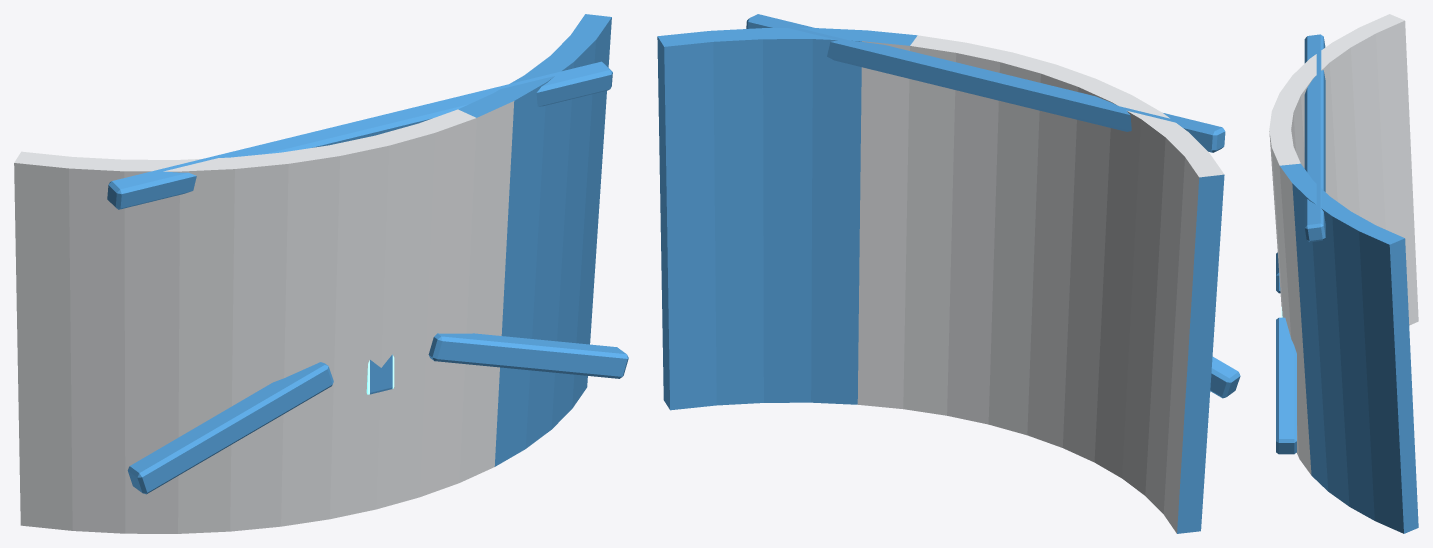
Rendered from chest__split_rib.glb.
3 views of the same model, side by side, from view 1: azimuth 30°, elevation 25°; view 2: azimuth 150°, elevation 25°; view 3: azimuth 270°, elevation 25° (orthographic). The views are drawn at different scales.
Visible parts, largest first — view 1: armor_armor_chest__split_rib_v001_v001; view 2: armor_armor_chest__split_rib_v001_v001; view 3: armor_armor_chest__split_rib_v001_v001.
Part boxes in pixels (x1,y1,x2,y2): armor_armor_chest__split_rib_v001_v001: (14, 14, 628, 533); armor_armor_chest__split_rib_v001_v001: (657, 14, 1240, 533); armor_armor_chest__split_rib_v001_v001: (1269, 14, 1418, 533).
Size of the model in its own units: 0.57 by 0.3406 by 0.1559.
